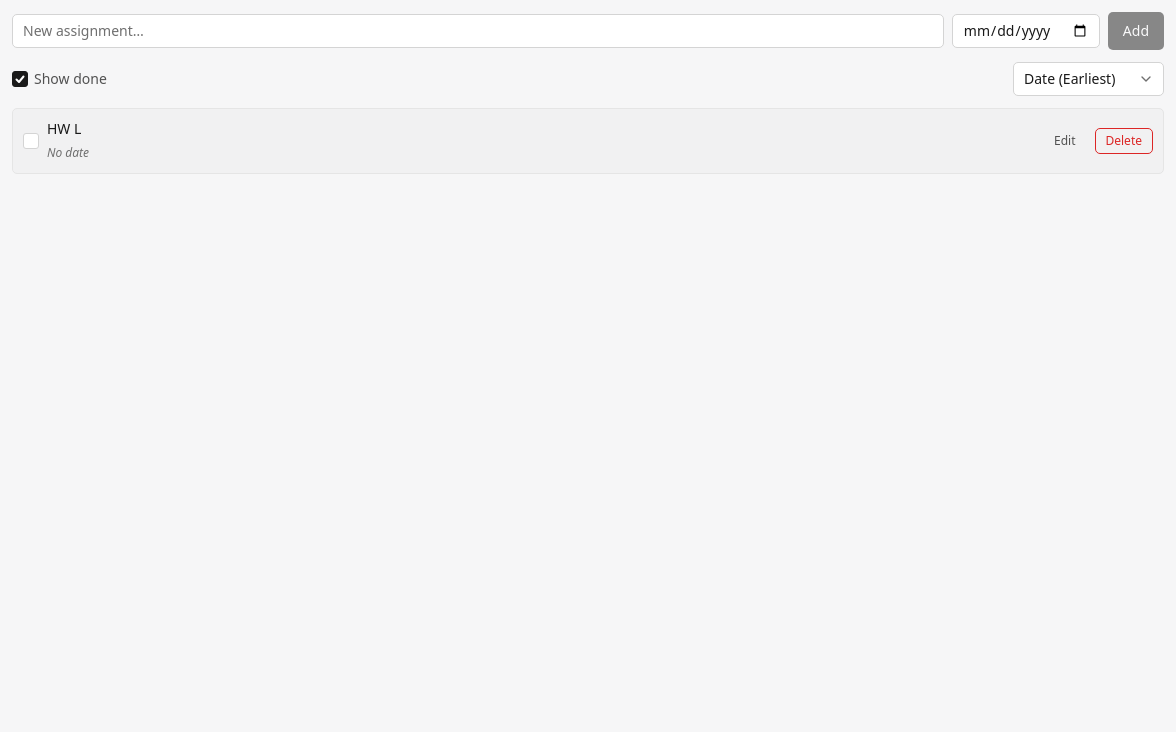
it: HomeworkTab › adds and removes links with auto "Link N" labels
Click the button with aria-label "Edit HW L". click: {"x": 1065, "y": 141}
box: [1043,128,1086,154]
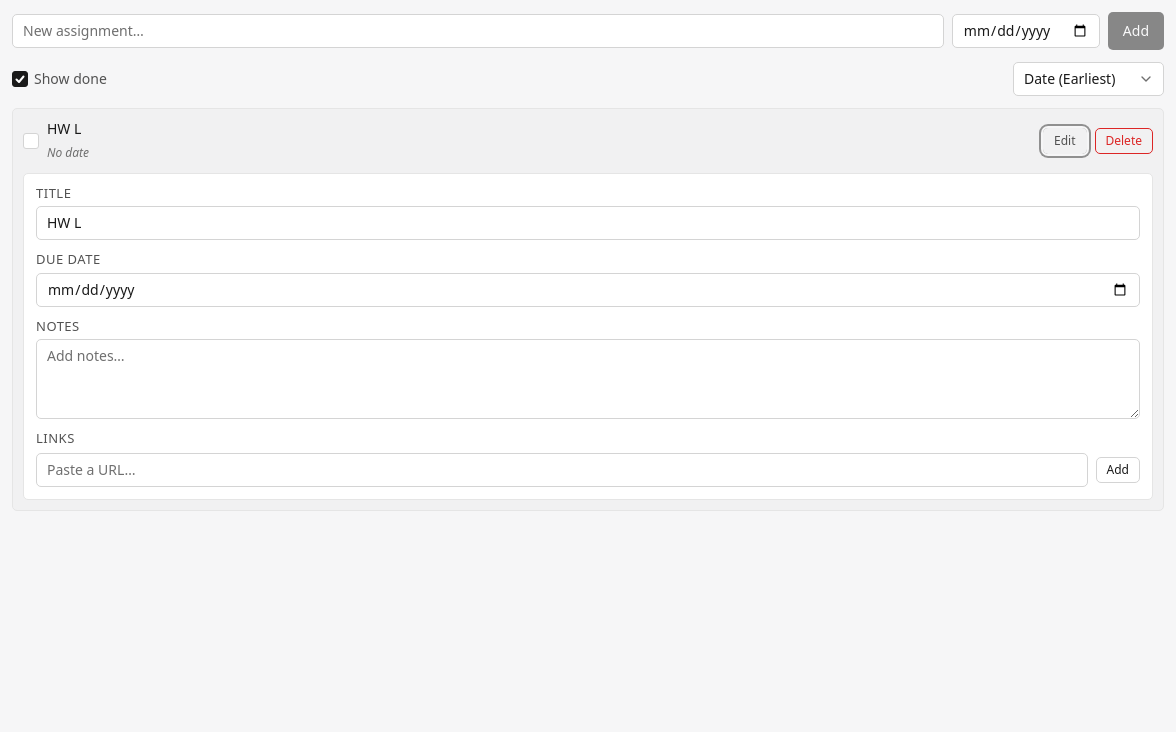
Type "https://a.example" into the field named "Link URL". click: {"x": 562, "y": 470}
box: [36,453,1088,487]
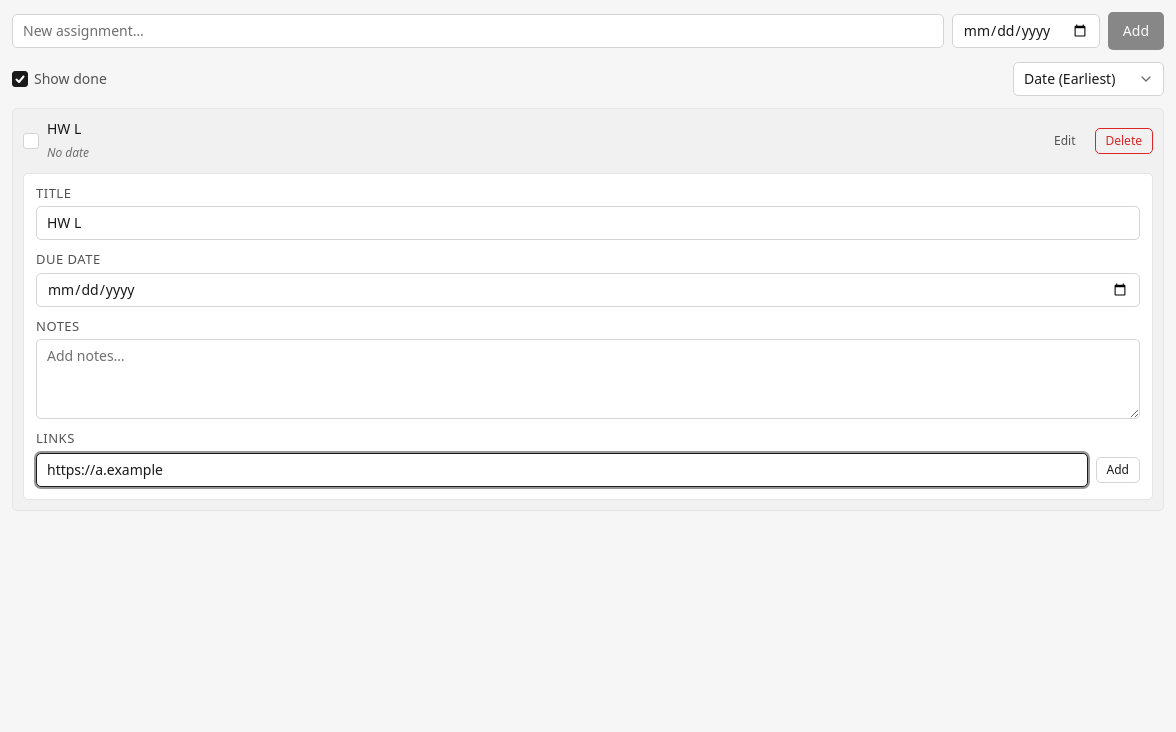
Click the button with aria-label "Add link". click: {"x": 1118, "y": 470}
box: [1096,457,1140,483]
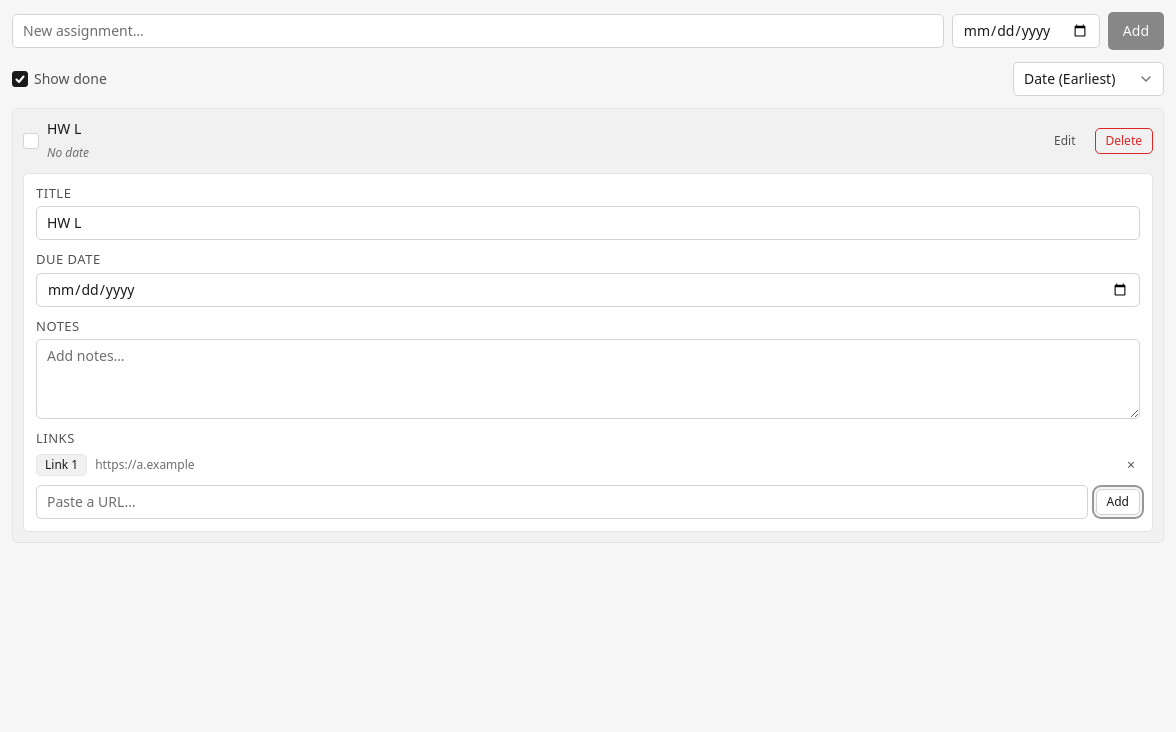
expect the link "Link 1" is shown: met, box [36,454,87,476]
Type "https://b.example" into the field named "Link URL". click: {"x": 562, "y": 502}
box: [36,485,1088,519]
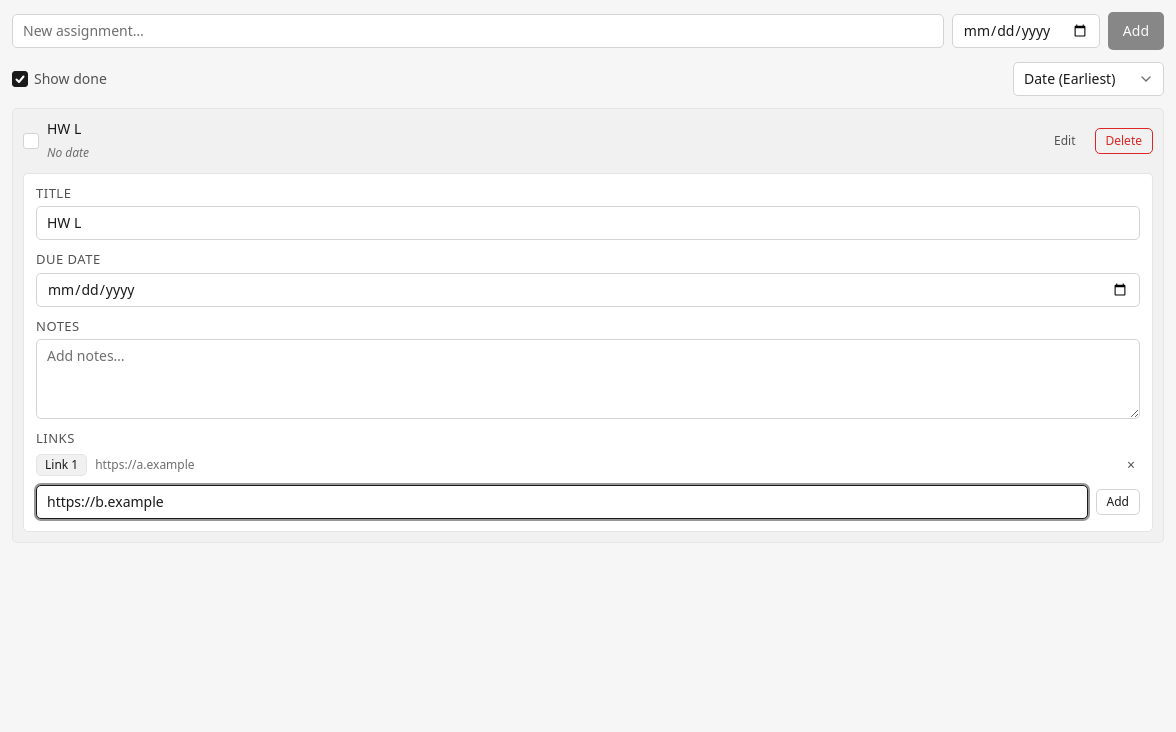
Click the button with aria-label "Add link". click: {"x": 1118, "y": 502}
box: [1096,489,1140,515]
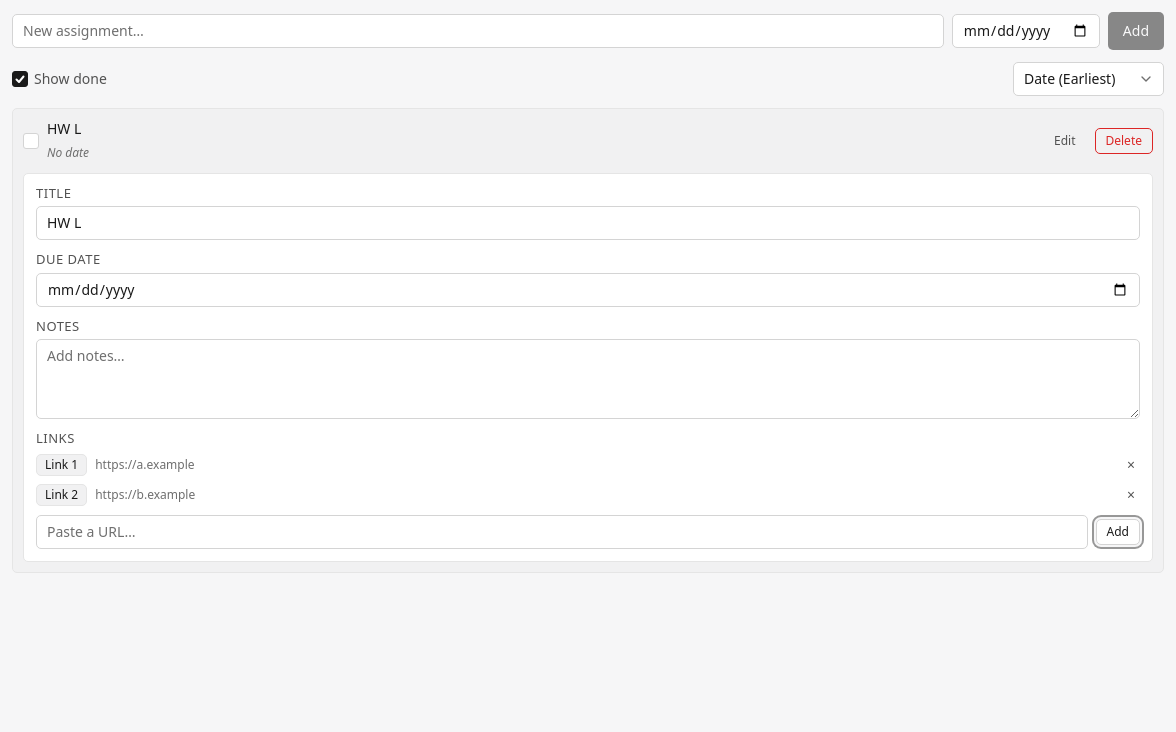
expect the link "Link 2" is shown: met, box [36,484,87,506]
Click the button named "Remove Link 1". click: {"x": 1131, "y": 465}
box: [1122,453,1140,477]
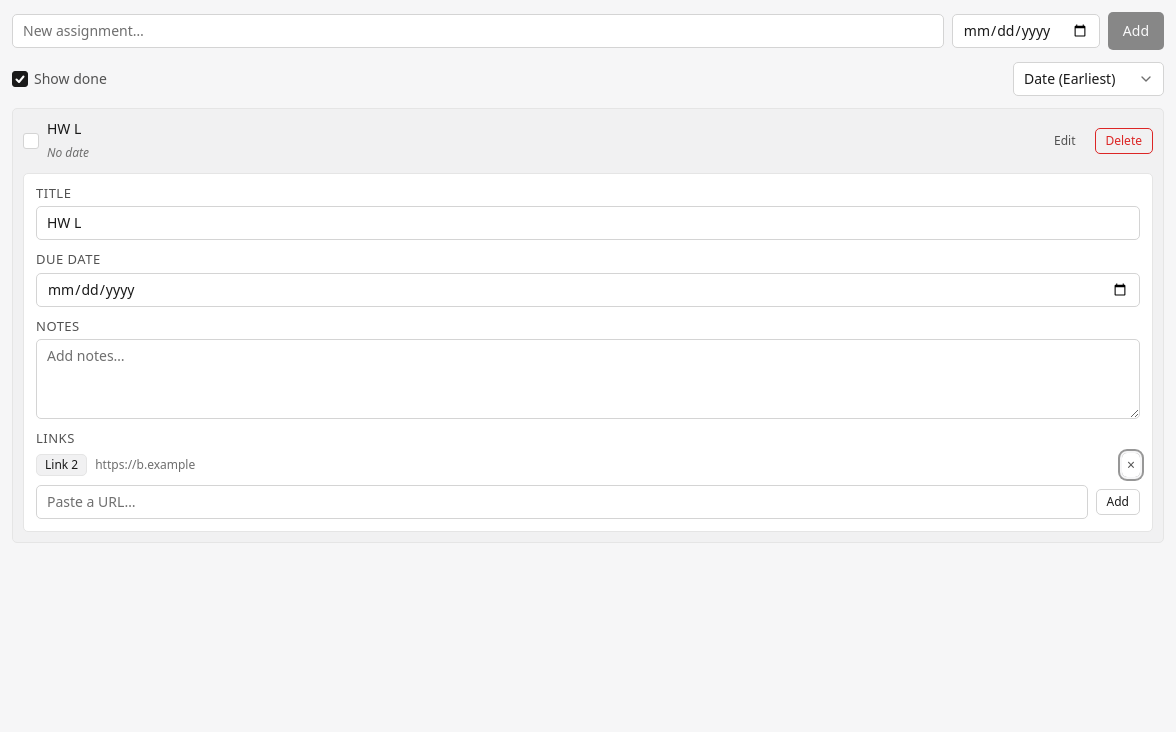
expect the link "Link 1" is gone: met
